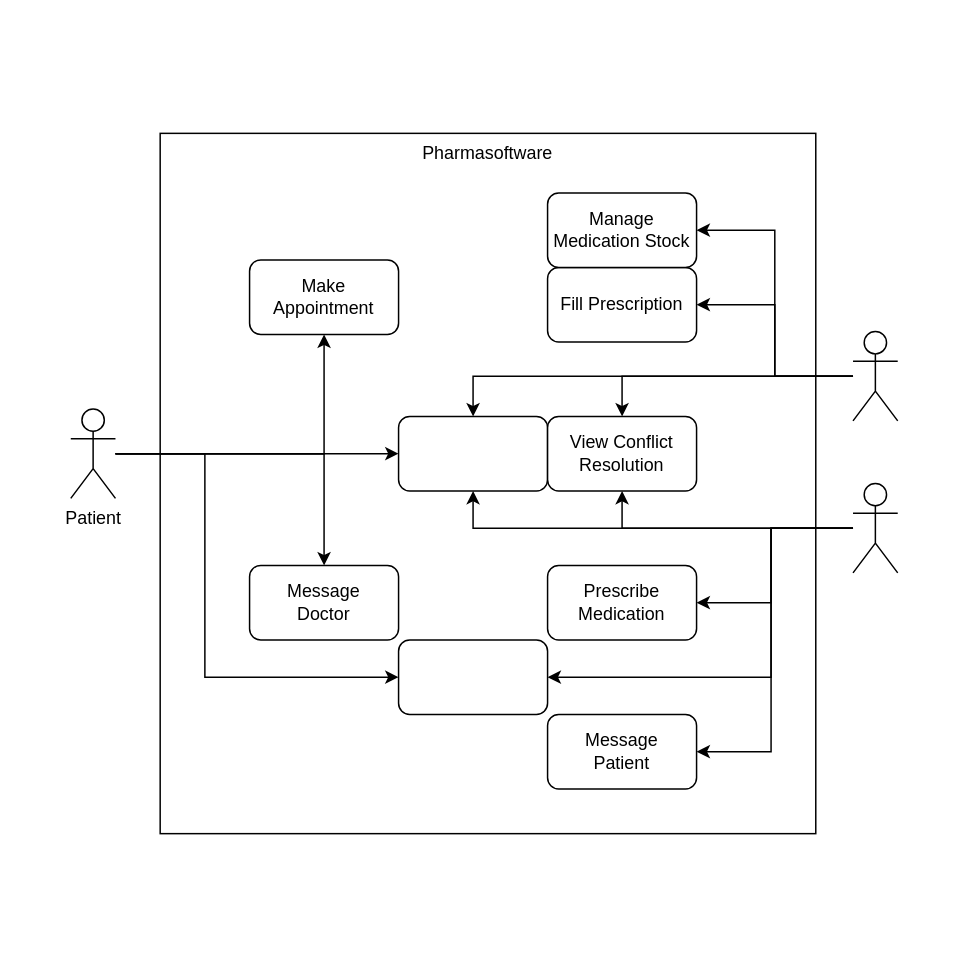
This 967x967 diagram has some shape labels left out. The centre of each missing label's shape, as x and y in pixels:
"Doctor" belongs at point 875,527.
"Pharmacist" belongs at point 875,375.
"View Patient Information" belongs at point 472,676.
"View Product Information" belongs at point 472,453.
